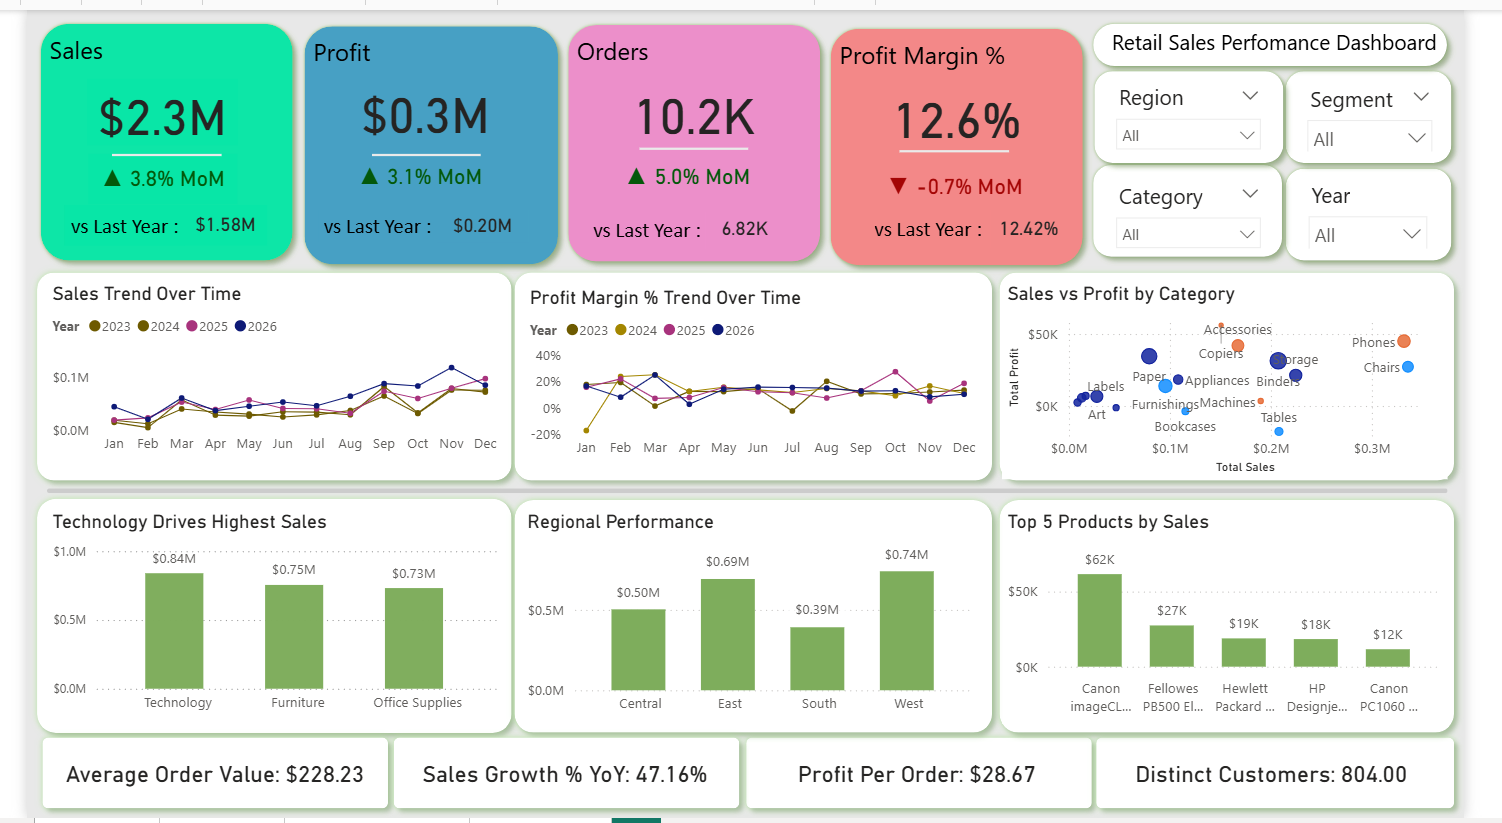

Layout of this report page (visuals, bound fields, positions):
{"tool":"powerbi","page":{"name":"Dashboard","canvas":[1280,720],"ordinal":0},"visuals":[{"type":"shape","title":"Total Sales","box":[1108.8,129,171.5,105.7],"z":0},{"type":"shape","title":"Total Sales","box":[1108.8,42.5,171.5,105.7],"z":1000},{"type":"shape","title":"Total Sales","box":[937.2,126.2,192.1,105.7],"z":2000},{"type":"shape","box":[627.1,639.5,330.7,81],"z":3000},{"type":"shape","box":[938.6,639.5,341.7,81],"z":4000},{"type":"shape","box":[857.6,427.6,422.6,225],"z":5000},{"type":"shape","box":[0,225,440.5,203.1],"z":6000},{"type":"shape","box":[0,426.2,440.5,226.4],"z":7000},{"type":"shape","title":"Total Sales","box":[234.6,2.7,249.7,236],"z":8000},{"type":"card","fields":{"Values":["Msr_tbl.Previous Year Profit"]},"box":[365.1,177.9,81.4,29.1],"z":9000},{"type":"card","fields":{"Values":["Msr_tbl.MoM Profit Display"]},"box":[285.4,129,130.4,38.4],"z":10000},{"type":"card","fields":{"Values":["Msr_tbl.Total Profit"]},"box":[285.4,60.4,140,57.6],"z":11000},{"type":"shape","box":[259.3,178.4,105.7,28.8],"z":12000},{"type":"shape","title":"Total Sales","box":[469.2,1.4,248.4,234.6],"z":13000},{"type":"card","fields":{"Values":["Msr_tbl.Previous Year Orders"]},"box":[604.9,179.1,69.8,32.6],"z":14000},{"type":"card","fields":{"Values":["Msr_tbl.MoM Orders Display"]},"box":[521.3,130.4,134.5,35.7],"z":15000},{"type":"card","fields":{"Values":["Msr_tbl.Total Orders"]},"box":[531,61.7,126.2,57.6],"z":16000},{"type":"shape","box":[500.2,179.1,104.7,33.7],"z":17000},{"type":"shape","title":"Total Sales","box":[703.9,4.6,248.4,234.6],"z":18000},{"type":"card","fields":{"Values":["Msr_tbl.Previous Year PM"]},"box":[852.6,179.8,79.1,32.6],"z":19000},{"type":"card","fields":{"Values":["Msr_tbl.MoM PM Display"]},"box":[760.1,137.7,131.7,38.4],"z":20000},{"type":"card","fields":{"Values":["Msr_tbl.Profit Margin %"]},"box":[761.5,63.6,133.1,60.4],"z":21000},{"type":"shape","box":[746.5,178.4,111.1,34.3],"z":22000},{"type":"shape","title":"Total Sales","box":[0,0,248.4,235],"z":23000},{"type":"card","fields":{"Values":["Msr_tbl.Previous Year Sales"]},"box":[140.7,173.3,73.3,36],"z":24000},{"type":"card","fields":{"Values":["Msr_tbl.Total Sales"]},"box":[53.5,61.7,134.5,59],"z":25000},{"type":"shape","box":[33.8,173.5,107.4,36.2],"z":26000},{"type":"card","fields":{"Values":["Msr_tbl.MoM Sales Display"]},"box":[54.3,127.6,132.7,44.6],"z":27000},{"type":"shape","box":[75.7,121.3,98,15.6],"z":28000},{"type":"shape","box":[307.2,121.3,96.8,15.6],"z":29000},{"type":"shape","box":[545.5,115.8,96.8,15.6],"z":30000},{"type":"shape","box":[777,118,98,15.6],"z":31000},{"type":"lineChart","title":"Sales Trend Over Time","fields":{"Y":["Msr_tbl.Total Sales"],"Series":["DateTable.Year"],"Category":["DateTable.Month"]},"box":[17.8,242.9,407.5,161.9],"z":32000},{"type":"columnChart","title":"Technology Drives Highest Sales","fields":{"Category":["Orders.Category"],"Y":["Msr_tbl.Total Sales"]},"box":[17.8,445.4,407.5,189.4],"z":33000},{"type":"columnChart","title":"Top 5 Products by Sales","fields":{"Y":["Msr_tbl.Total Sales"],"Category":["Orders.Product Name"]},"box":[868.6,445.4,396.6,190.7],"z":34000},{"type":"shape","title":"Total Sales","box":[937.2,0,343.1,61.7],"z":35000},{"type":"shape","title":"Total Sales","box":[938.6,42.5,192.1,105.7],"z":36000},{"type":"slicer","fields":{"Values":["Orders.Region"]},"box":[959.2,60.4,149.6,65.9],"z":37000},{"type":"slicer","fields":{"Values":["Orders.Category"]},"box":[959.2,148.2,149.6,64.5],"z":38000},{"type":"slicer","fields":{"Values":["Orders.Segment"]},"box":[1129.3,61.7,131.7,64.5],"z":39000},{"type":"shape","box":[425.4,225,443.2,203.1],"z":40000},{"type":"shape","box":[425.4,427.6,443.2,225],"z":41000},{"type":"lineStackedColumnComboChart","title":"Regional Performance","fields":{"Category":["Orders.Region Hierarchy.Region","Orders.Region Hierarchy.Category","Orders.Region Hierarchy.Sub-Category"],"Y":["Msr_tbl.Total Sales"]},"box":[440.5,445.4,407.5,190.7],"z":42000},{"type":"shape","box":[0,639.5,330.7,81],"z":43000},{"type":"shape","box":[312.9,639.5,330.7,81],"z":44000},{"type":"card","fields":{"Values":["Msr_tbl.Sales Growth % YoY Display"]},"box":[330.7,655.9,297.8,49.4],"z":45000},{"type":"card","fields":{"Values":["Msr_tbl.DC Display"]},"box":[959.2,655.9,297.8,49.4],"z":46000},{"type":"card","fields":{"Values":["Msr_tbl.PPO Display"]},"box":[647.7,655.9,289.5,49.4],"z":47000},{"type":"shape","box":[857.6,225,422.6,203.1],"z":48000},{"type":"lineChart","title":"Profit Margin % Trend Over Time","fields":{"Series":["DateTable.Year"],"Category":["DateTable.Month"],"Y":["Msr_tbl.Profit Margin %"]},"box":[443.2,245.6,408.9,161.9],"z":49000},{"type":"slicer","fields":{"Values":["DateTable.Year"]},"box":[1130.7,146.8,126.2,65.9],"z":50000},{"type":"card","fields":{"Values":["Msr_tbl.AOV Display"]},"box":[22,655.9,290.9,49.4],"z":51000},{"type":"shape","box":[17.8,418.5,1247.3,19.2],"z":52000},{"type":"scatterChart","title":"Sales vs Profit by Category","fields":{"Series":["Orders.Category"],"Y":["Msr_tbl.Total Profit"],"X":["Msr_tbl.Total Sales"],"Category":["Orders.Sub-Category"],"Size":["Sum(Orders.Quantity)"]},"box":[868.6,243,396.5,175.6],"z":52001}]}

Visuals, with their boxes in screenshot pixels (x1, y1, x2, y2), scaled from the page's 1280x720 canvas onto the 1502x823 screenshot:
"Total Sales" shape: crop(1301, 147, 1501, 268)
"Total Sales" shape: crop(1301, 49, 1501, 169)
"Total Sales" shape: crop(1100, 144, 1325, 265)
shape: crop(736, 731, 1124, 822)
shape: crop(1101, 731, 1501, 822)
shape: crop(1006, 489, 1501, 746)
shape: crop(0, 257, 517, 489)
shape: crop(0, 487, 517, 746)
"Total Sales" shape: crop(275, 3, 568, 273)
card - Msr_tbl.Previous Year Profit: crop(428, 203, 524, 237)
card - Msr_tbl.MoM Profit Display: crop(335, 147, 488, 191)
card - Msr_tbl.Total Profit: crop(335, 69, 499, 135)
shape: crop(304, 204, 428, 237)
"Total Sales" shape: crop(551, 2, 842, 270)
card - Msr_tbl.Previous Year Orders: crop(710, 205, 792, 242)
card - Msr_tbl.MoM Orders Display: crop(612, 149, 770, 190)
card - Msr_tbl.Total Orders: crop(623, 71, 771, 136)
shape: crop(587, 205, 710, 243)
"Total Sales" shape: crop(826, 5, 1117, 273)
card - Msr_tbl.Previous Year PM: crop(1000, 206, 1093, 243)
card - Msr_tbl.MoM PM Display: crop(892, 157, 1046, 201)
card - Msr_tbl.Profit Margin %: crop(894, 73, 1050, 142)
shape: crop(876, 204, 1006, 243)
"Total Sales" shape: crop(0, 0, 291, 269)
card - Msr_tbl.Previous Year Sales: crop(165, 198, 251, 239)
card - Msr_tbl.Total Sales: crop(63, 71, 221, 138)
shape: crop(40, 198, 166, 240)
card - Msr_tbl.MoM Sales Display: crop(64, 146, 219, 197)
shape: crop(89, 139, 204, 156)
shape: crop(360, 139, 474, 156)
shape: crop(640, 132, 754, 150)
shape: crop(912, 135, 1027, 153)
"Sales Trend Over Time" lineChart: crop(21, 278, 499, 463)
"Technology Drives Highest Sales" columnChart: crop(21, 509, 499, 726)
"Top 5 Products by Sales" columnChart: crop(1019, 509, 1485, 727)
"Total Sales" shape: crop(1100, 0, 1501, 71)
"Total Sales" shape: crop(1101, 49, 1327, 169)
slicer - Orders.Region: crop(1126, 69, 1301, 144)
slicer - Orders.Category: crop(1126, 169, 1301, 243)
slicer - Orders.Segment: crop(1325, 71, 1480, 144)
shape: crop(499, 257, 1019, 489)
shape: crop(499, 489, 1019, 746)
"Regional Performance" lineStackedColumnComboChart: crop(517, 509, 995, 727)
shape: crop(0, 731, 388, 822)
shape: crop(367, 731, 755, 822)
card - Msr_tbl.Sales Growth % YoY Display: crop(388, 750, 738, 806)
card - Msr_tbl.DC Display: crop(1126, 750, 1475, 806)
card - Msr_tbl.PPO Display: crop(760, 750, 1100, 806)
shape: crop(1006, 257, 1501, 489)
"Profit Margin % Trend Over Time" lineChart: crop(520, 281, 1000, 466)
slicer - DateTable.Year: crop(1327, 168, 1475, 243)
card - Msr_tbl.AOV Display: crop(26, 750, 367, 806)
shape: crop(21, 478, 1485, 500)
"Sales vs Profit by Category" scatterChart: crop(1019, 278, 1485, 478)
